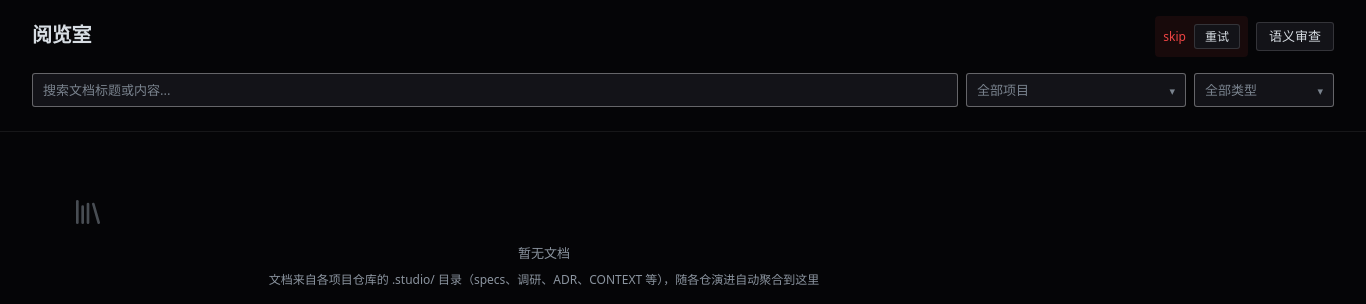
LibraryPage（#155 T5 阅览室） › 批次 F-4: 空态归 .empty-state（图标 + 文案 + 说明），区分真空/筛选无结果 › 搜索无结果走筛选语境文案
This screenshot has width=1366, height=304.
Expected: the text "暂无文档" is shown, [518, 244, 570, 262]
Type "不存在" into the field with placeholder "搜索文档标题或内容...".
click(495, 90); type("不存在")  # box [32, 73, 958, 107]
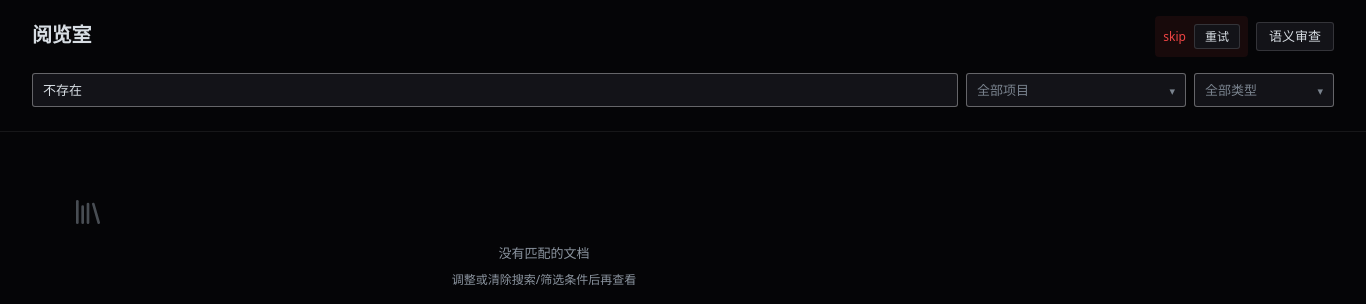
Expected: the text "没有匹配的文档" is shown, [498, 244, 590, 262]
Expected: the text "调整或清除搜索/筛选条件后再查看" is shown, [452, 270, 636, 288]
Expected: the text "暂无文档" is gone
